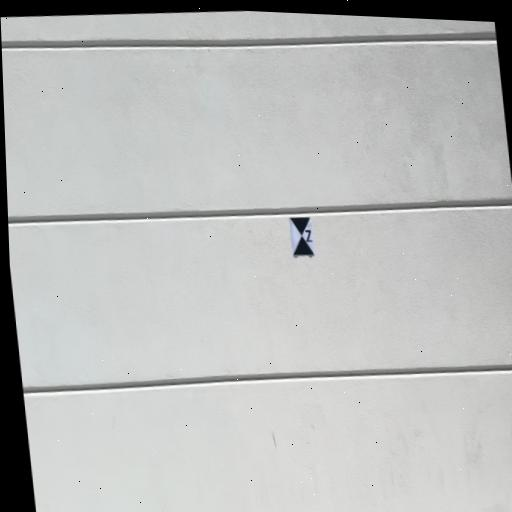target7: (290, 218, 315, 257)
